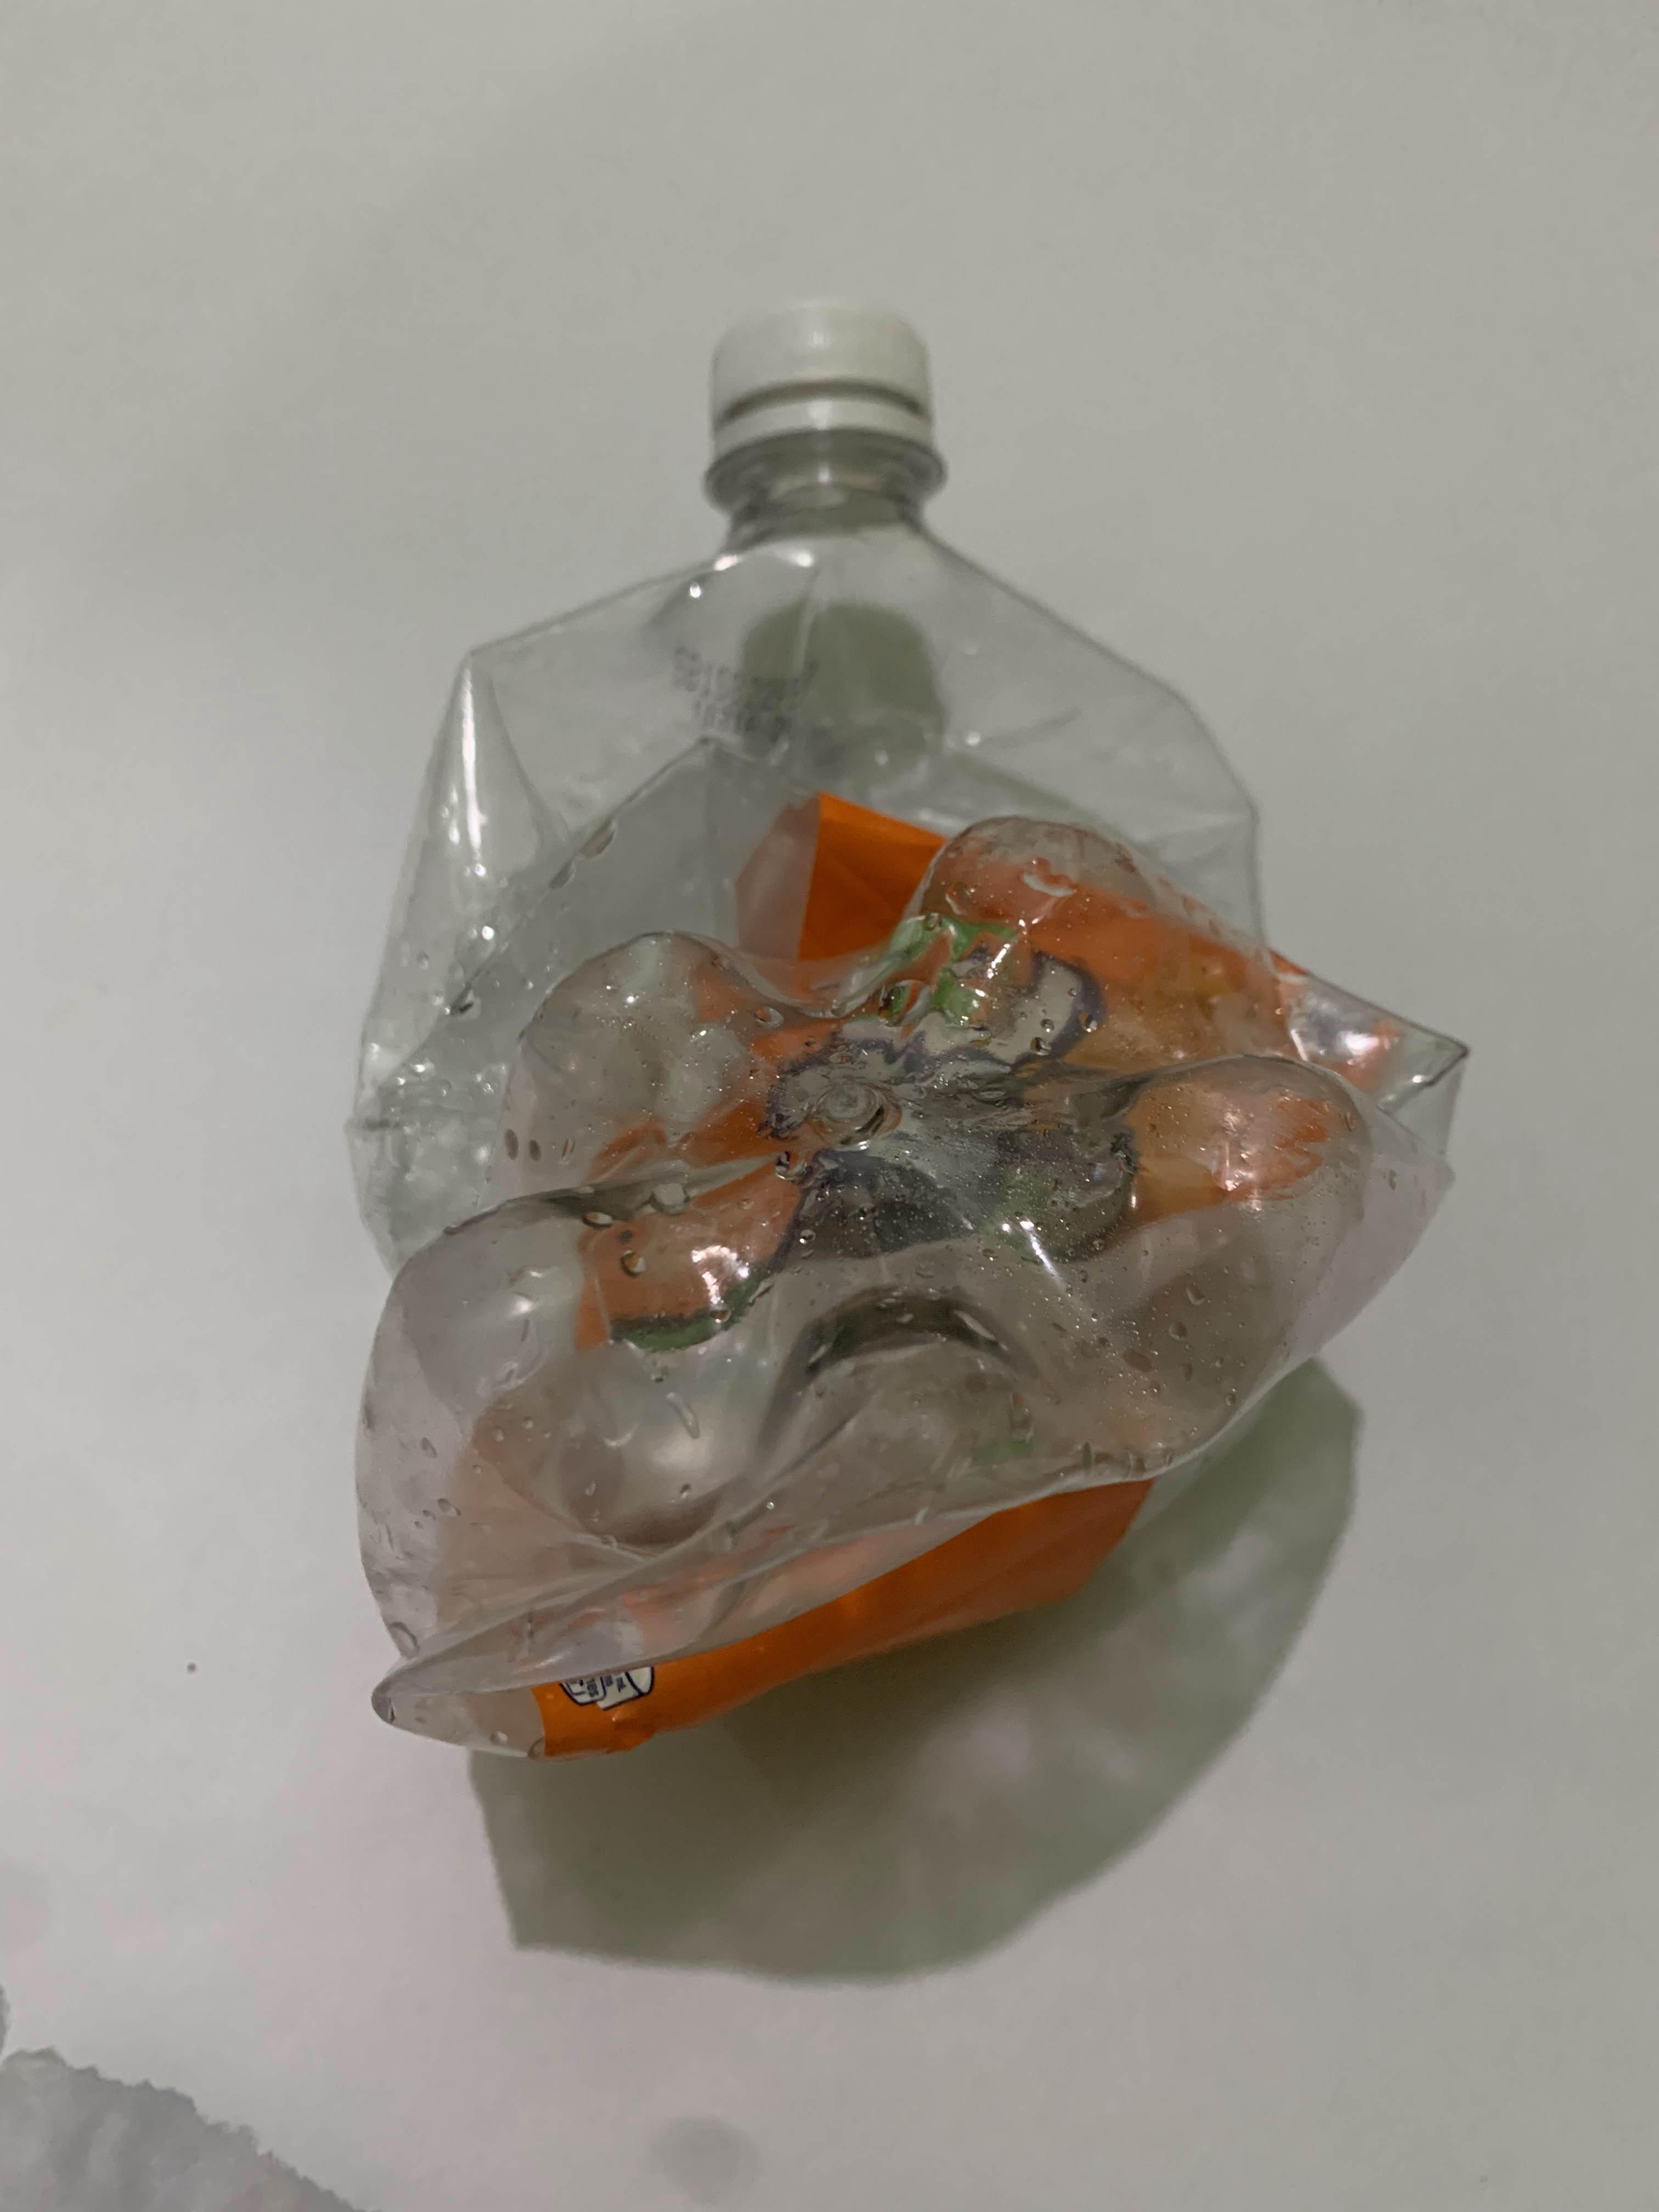bottle: (0, 301, 652, 1771)
